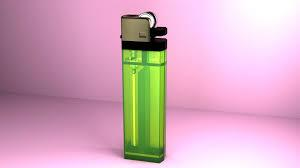lighter: (121, 10, 167, 165)
